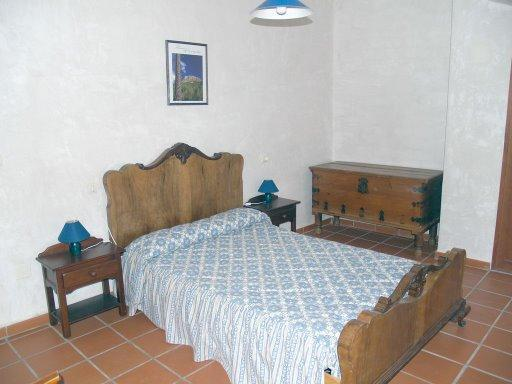Cama: (110, 142, 473, 375)
